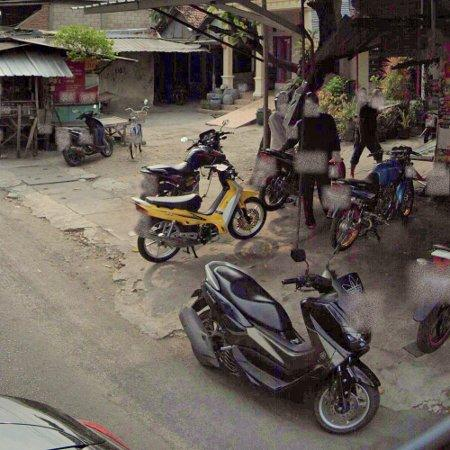motorcycles: (180, 246, 383, 436), (136, 162, 267, 264), (328, 144, 425, 250)
